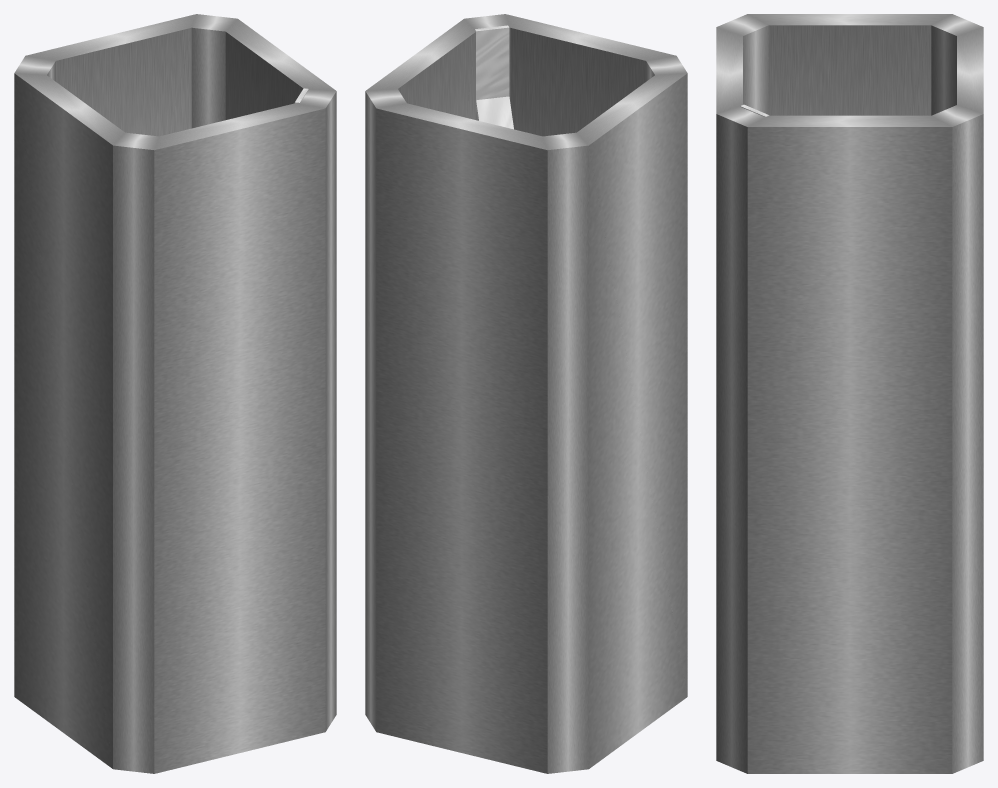
File: CandleHolder2.fbx
3 views of the same model, side by side, from view 1: azimuth 30°, elevation 25°; view 2: azimuth 150°, elevation 25°; view 3: azimuth 270°, elevation 25° (orthographic). The views are drawn at different scales.
Parts seen in each view (by area): view 1: Cube; view 2: Cube, Cube.001, Cube.002; view 3: Cube.
Part boxes in pixels (x1=…): Cube: x1=14, y1=14, x2=336, y2=773; Cube: x1=365, y1=14, x2=687, y2=773; Cube.001: x1=475, y1=25, x2=509, y2=100; Cube.002: x1=476, y1=96, x2=513, y2=129; Cube: x1=716, y1=14, x2=983, y2=773.
Size of the model in its own units: 0.15 by 0.4003 by 0.15.
